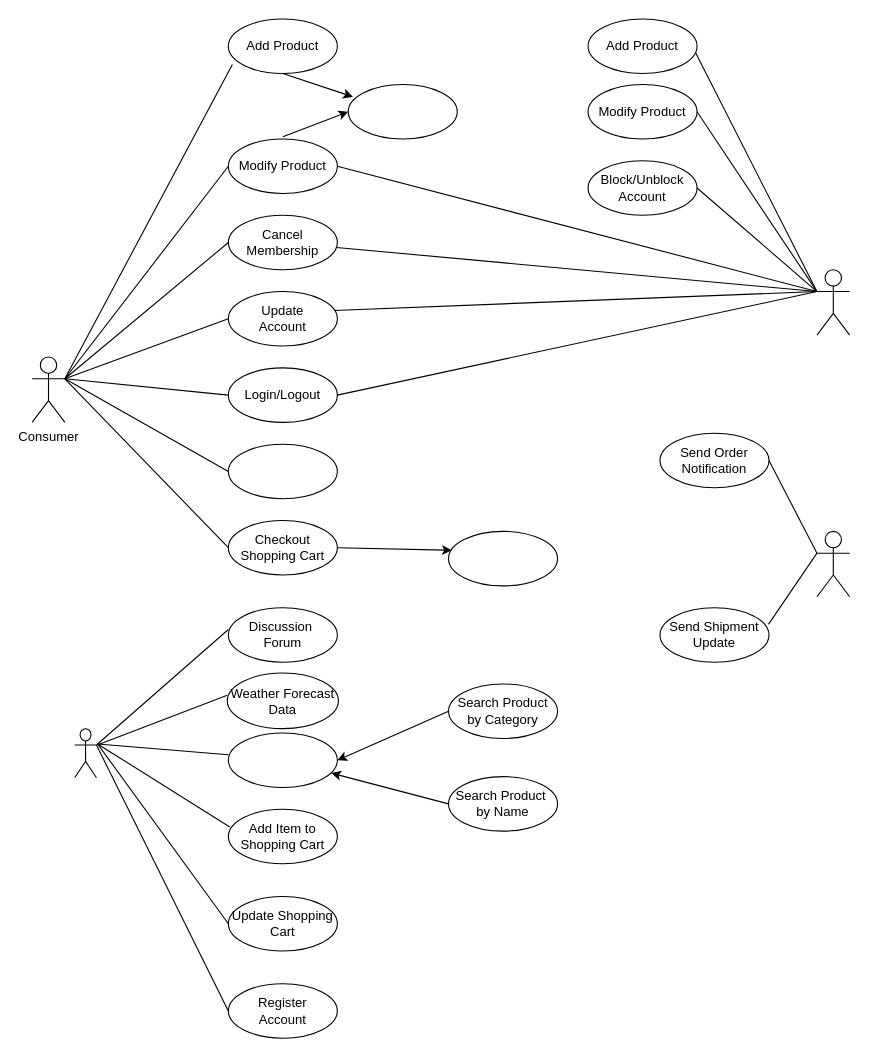
Image size: 874x1057. Some labels were removed from this diagram. Here are the shapes that lost their labels. From the top down, the box of each, then its label:
(347, 83, 457, 139): Update Catalog
(816, 269, 850, 335): Admin
(227, 443, 337, 499): Add Shipping Address
(447, 530, 558, 586): Make Payment
(816, 530, 850, 597): System
(74, 728, 96, 778): Farmer
(227, 732, 337, 788): Search Product
